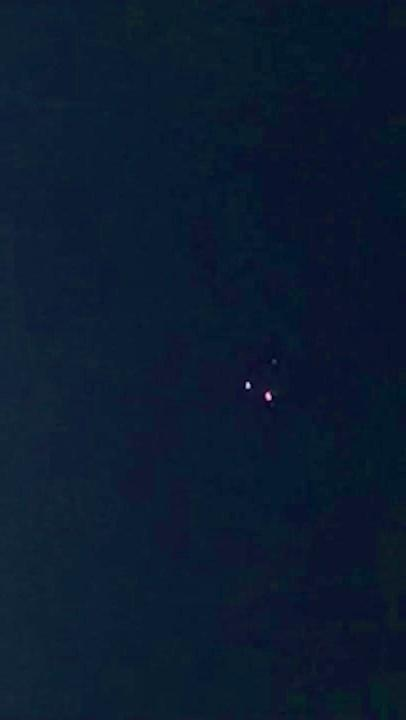Plane: (237, 355, 297, 405)
